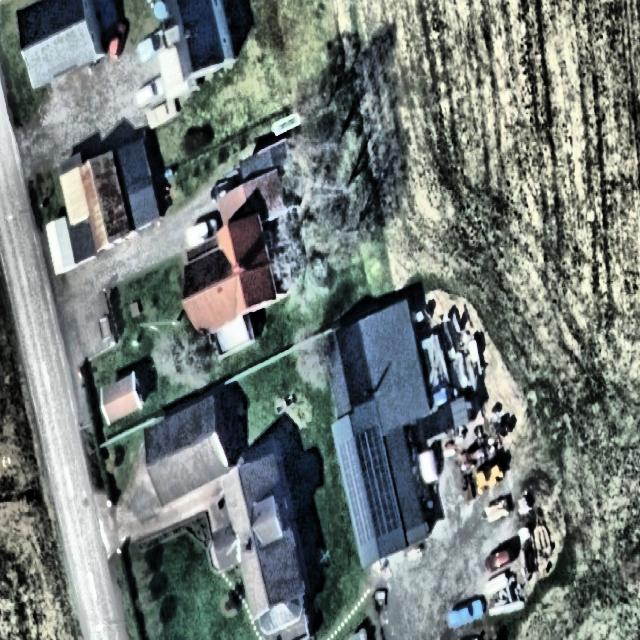roof_pv: (337, 422, 397, 547)
